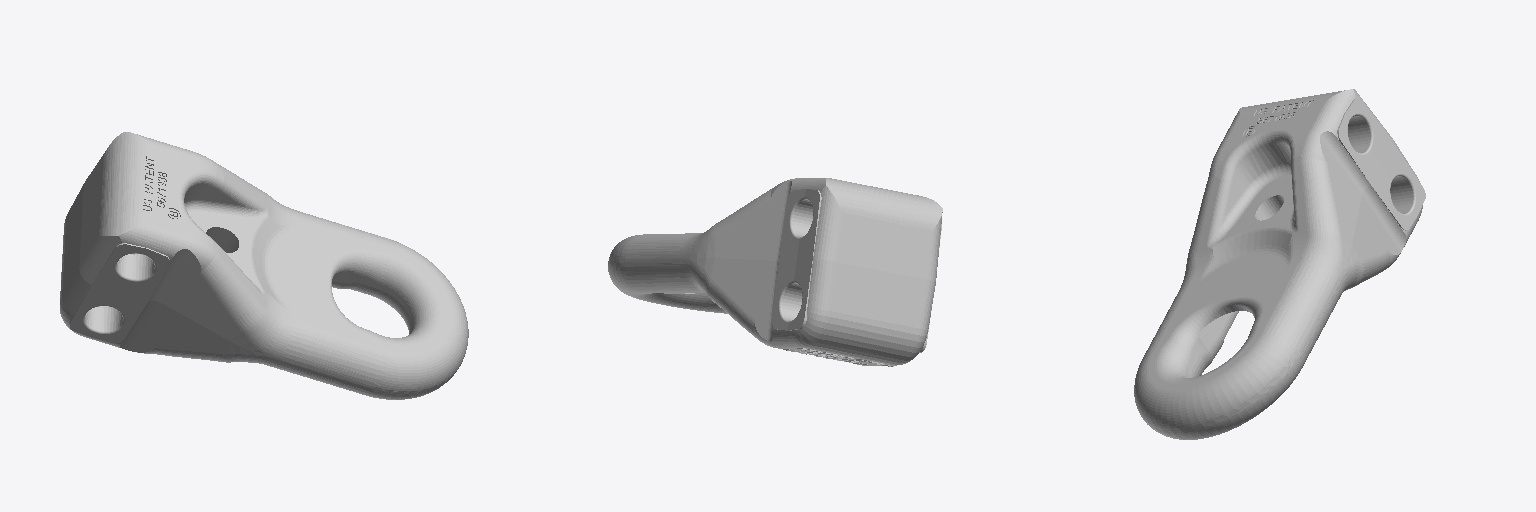
The model's file is PP30XLR.obj.
3 renders of one model, left to right at view 1: azimuth 30°, elevation 25°; view 2: azimuth 150°, elevation 25°; view 3: azimuth 270°, elevation 25°, orthographic.
Parts seen in each view (by area): view 1: pp30XLR; view 2: pp30XLR; view 3: pp30XLR.
Boxes of the visible parts, box(x1,y1,x2,y2) form: pp30XLR: box(60, 132, 468, 399); pp30XLR: box(608, 178, 942, 366); pp30XLR: box(1134, 89, 1425, 439).
Size of the model in its own units: 188 by 124 by 135.